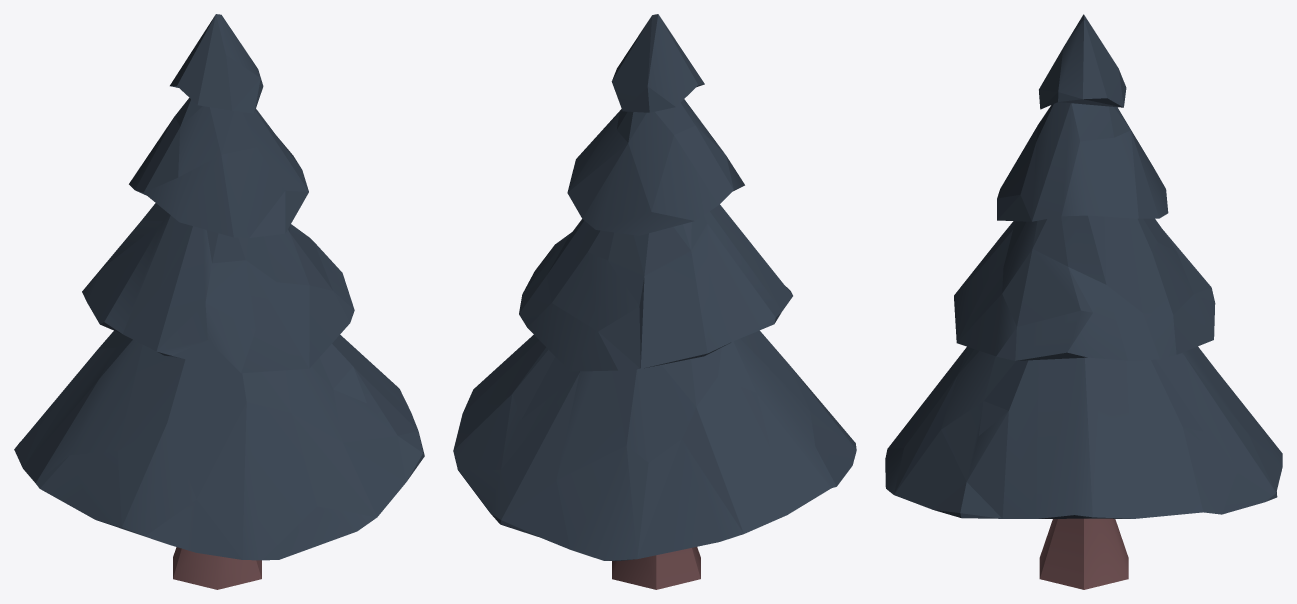
File: arvore.fbx
3 renders of one model, left to right at view 1: azimuth 30°, elevation 25°; view 2: azimuth 150°, elevation 25°; view 3: azimuth 270°, elevation 25°, orthographic.
Parts seen in each view (by area): view 1: árvore; view 2: árvore; view 3: árvore.
Boxes of the visible parts, x1=… form: árvore: x1=14, y1=14, x2=424, y2=589; árvore: x1=453, y1=14, x2=856, y2=589; árvore: x1=885, y1=14, x2=1282, y2=589.
Bounding box in the file's own units: 84.41 × 125 × 81.38.
